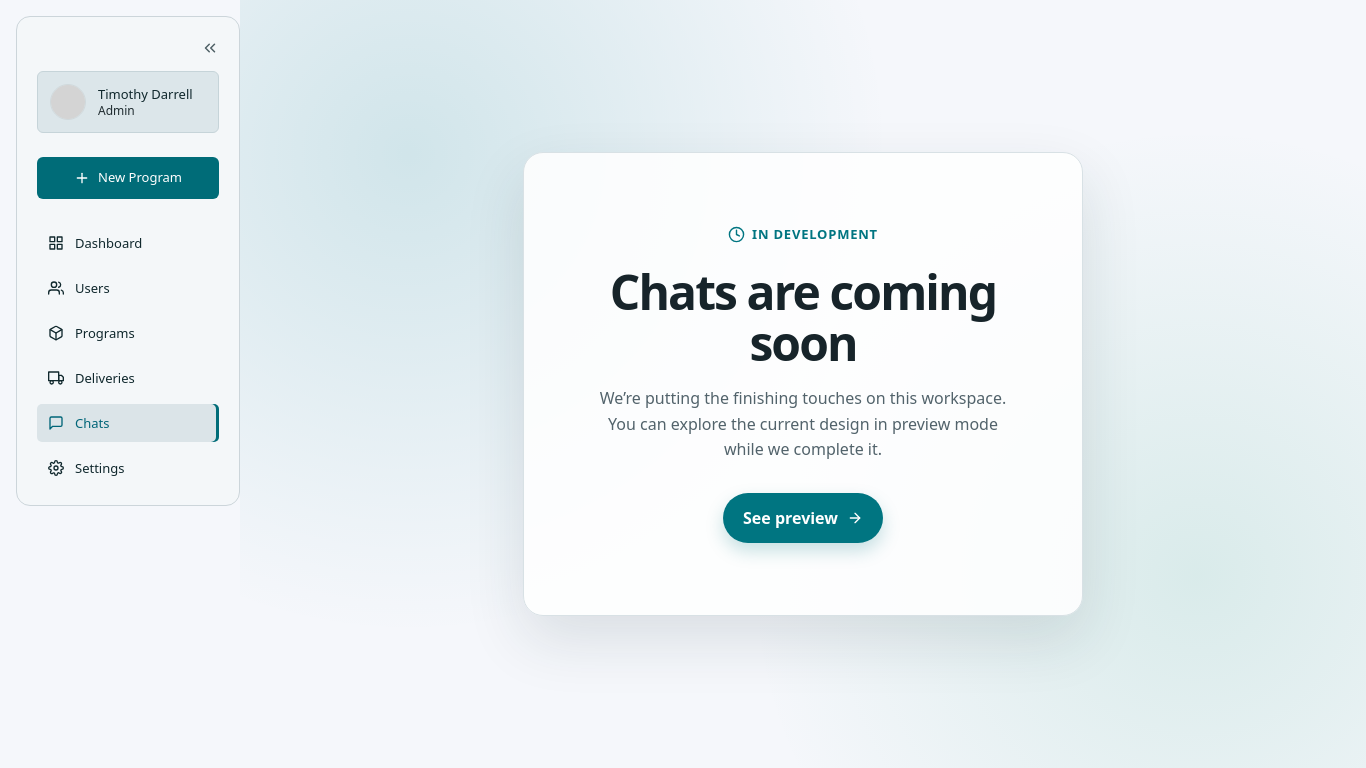
Test: Admin routes › renders /admin/chats
The width and height of the screenshot is (1366, 768).
Click the button "See preview". click: (803, 518)
box: 723,493 -> 883,543
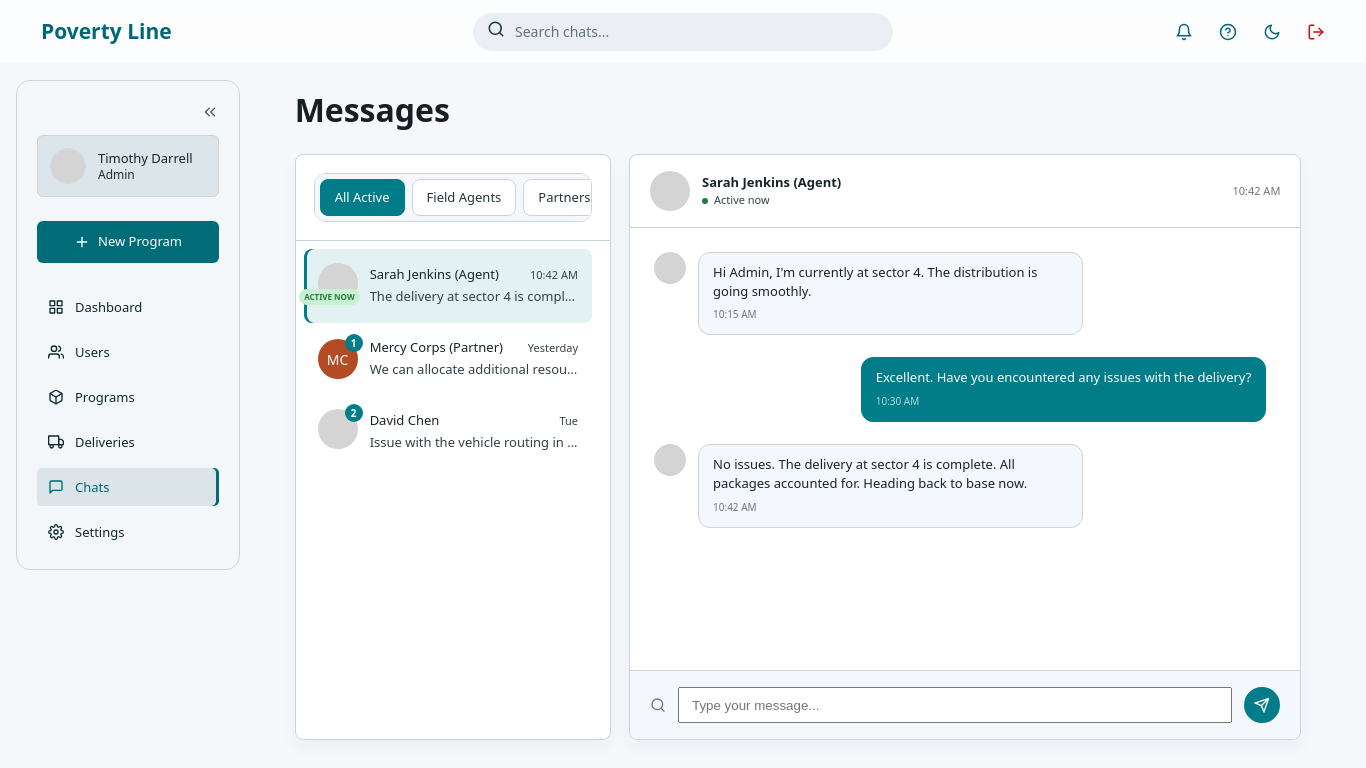
Expected: the heading "Messages" is shown, 295,88 -> 450,131
